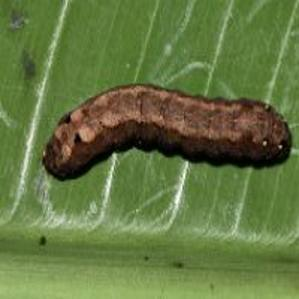Tobacco cutworm: (38, 53, 299, 228)
